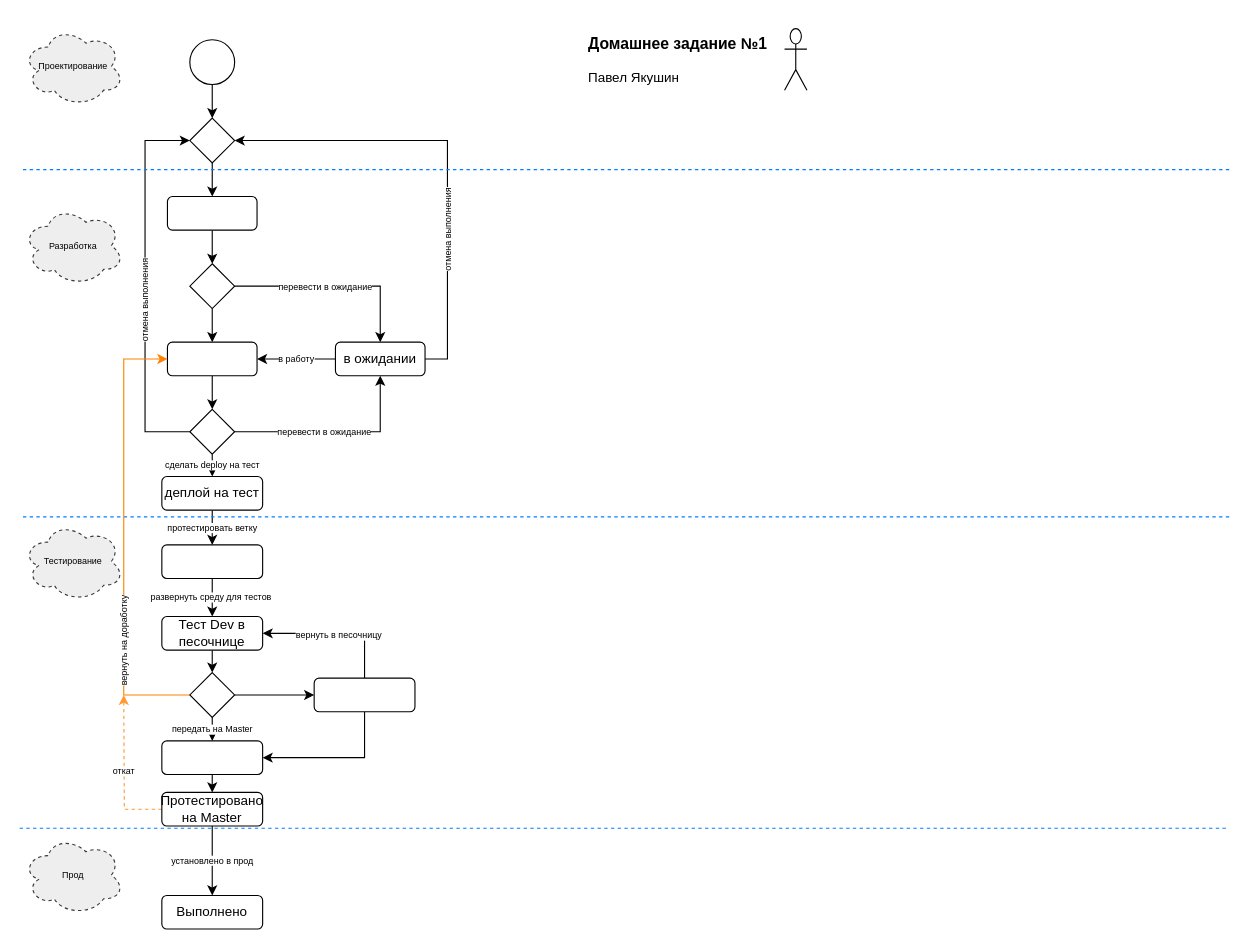
Image size: 1253x949. Some labels were removed from this diagram. Each missing label, with the centre of its shape:
"в работе" goes at (211,358).
"деплой на Master" goes at (212,757).
"Новая задача" goes at (211,212).
"Тест ветки" goes at (212,561).
"Тест на реплике Master" goes at (364,694).
